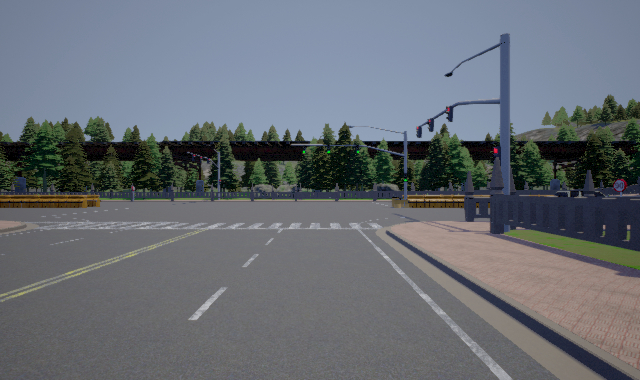traffic_light: (446, 106, 453, 122), (427, 118, 434, 132), (492, 146, 501, 156), (416, 126, 422, 138), (404, 173, 407, 182), (356, 145, 359, 153), (327, 145, 330, 153), (303, 145, 306, 153)
traffic_sign: (613, 179, 627, 192)
